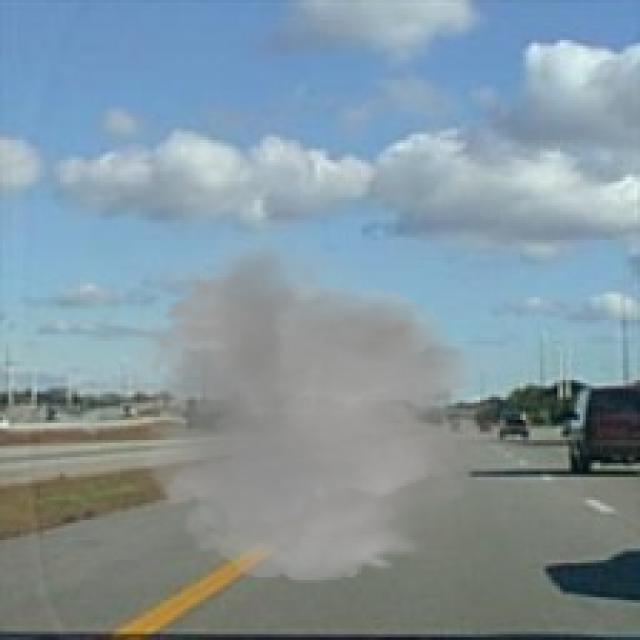Smoke: (111, 214, 523, 592)
